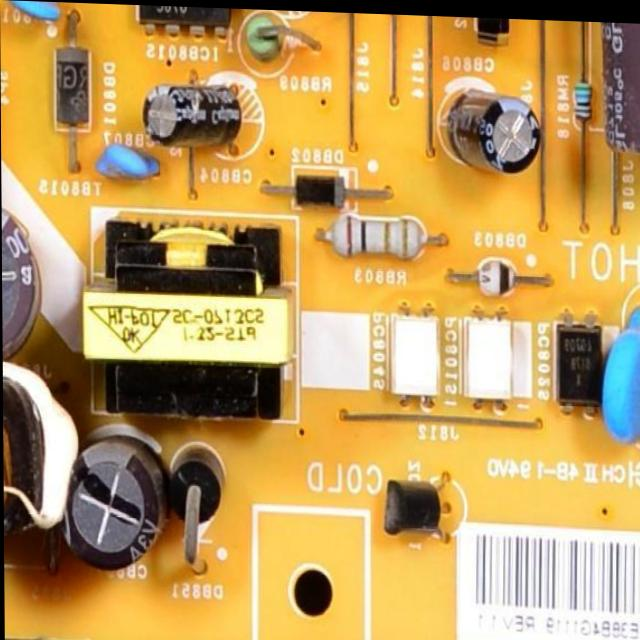IC: (137, 4, 232, 30)
capacitor: (55, 427, 166, 576), (135, 69, 247, 155), (443, 82, 541, 171), (601, 281, 640, 445), (1, 205, 38, 356), (603, 18, 640, 159), (4, 0, 55, 35)
resistor: (313, 206, 447, 258)
